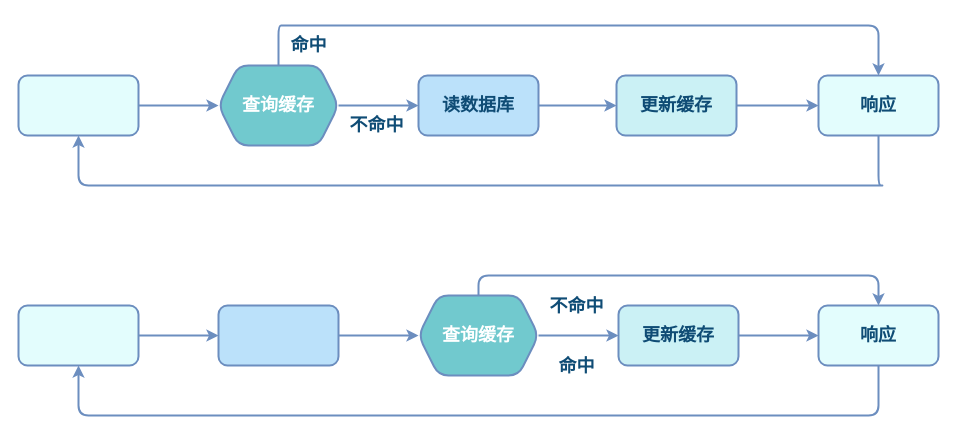
Image size: 956x441. Some labels were removed from this diagram. The shapes that lost their labels are listed below. From the top down, each one's centre as x and y in pixels, then its label:
the point at 78,105: 读请求
the point at 78,335: 写请求
the point at 278,335: 更新数据库
